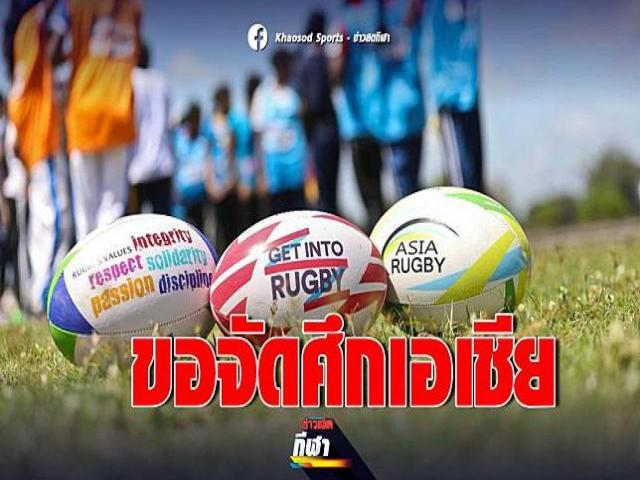round ball: (49, 215, 215, 367), (210, 211, 388, 345), (370, 187, 531, 320)
